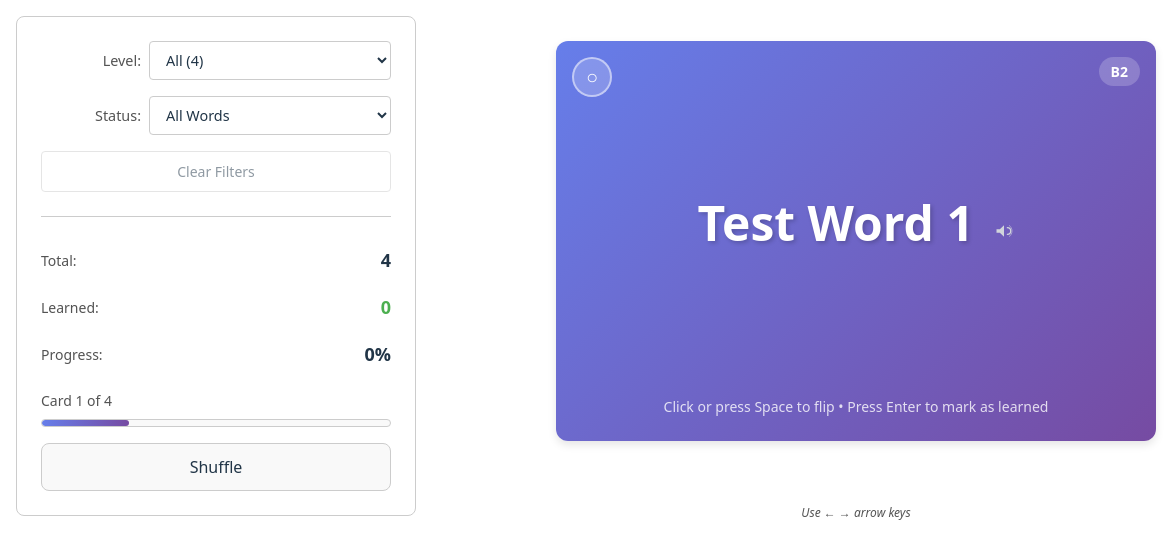
Test: VocabularyPractice Shuffling › resets to original order when Reset Order is clicked
Click the button "Shuffle" at (216, 467), box [41, 443, 391, 491]
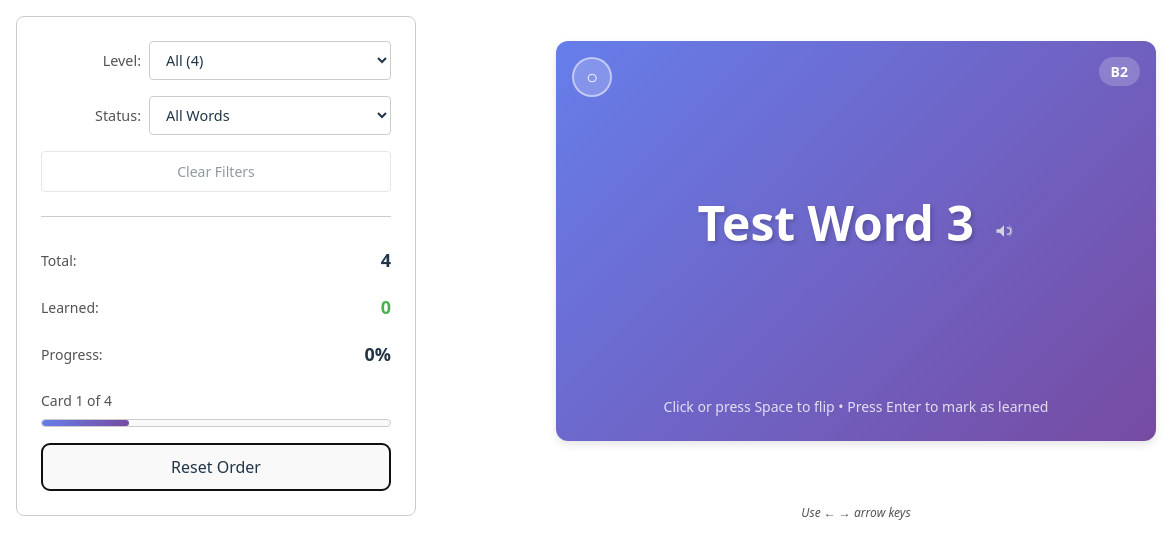
Click the button "Reset Order" at (216, 467), box [41, 443, 391, 491]
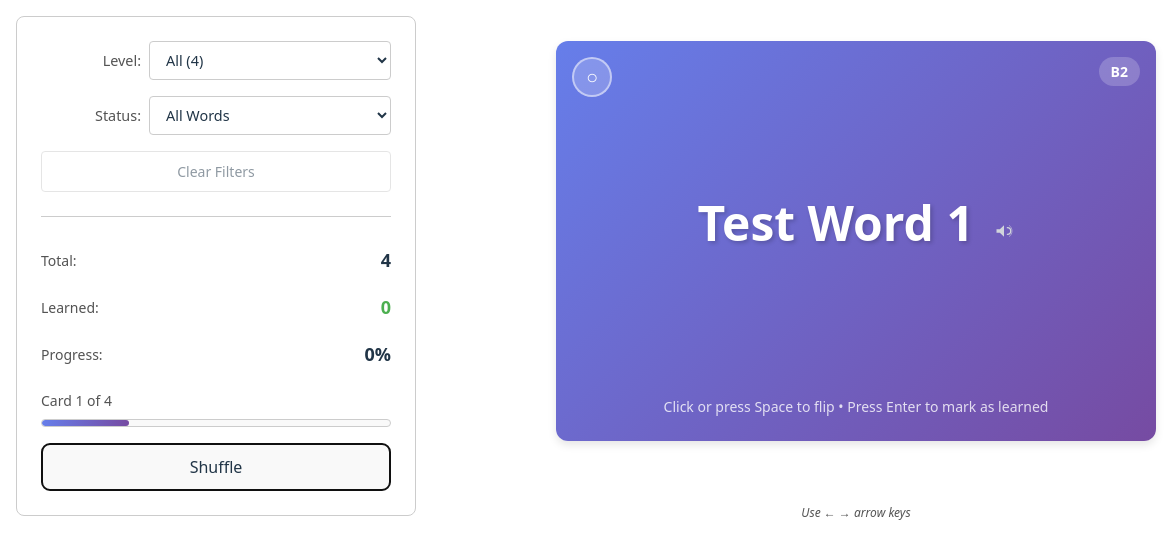
expect the button "Reset Order" is gone: met
